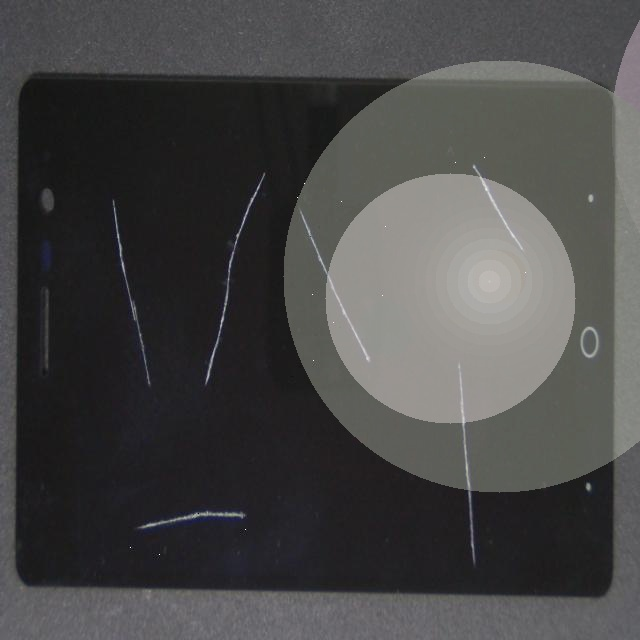scratch: (181, 190, 547, 571), (252, 57, 640, 231), (56, 246, 185, 640)
